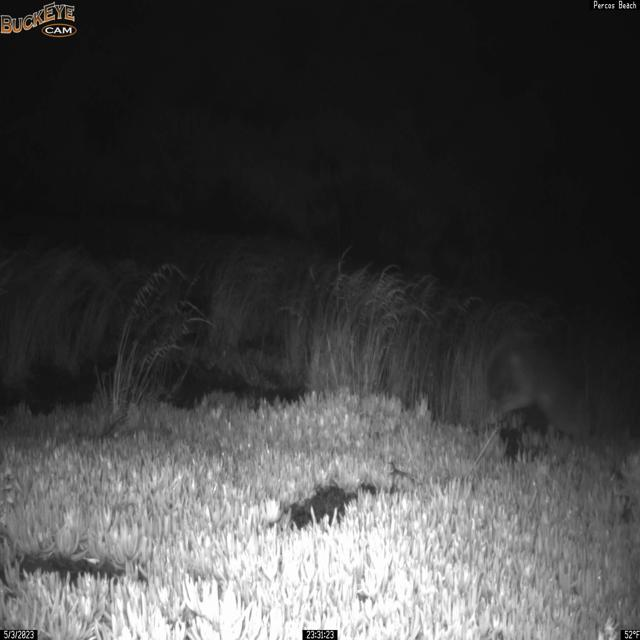coyote: (485, 335, 594, 443)
